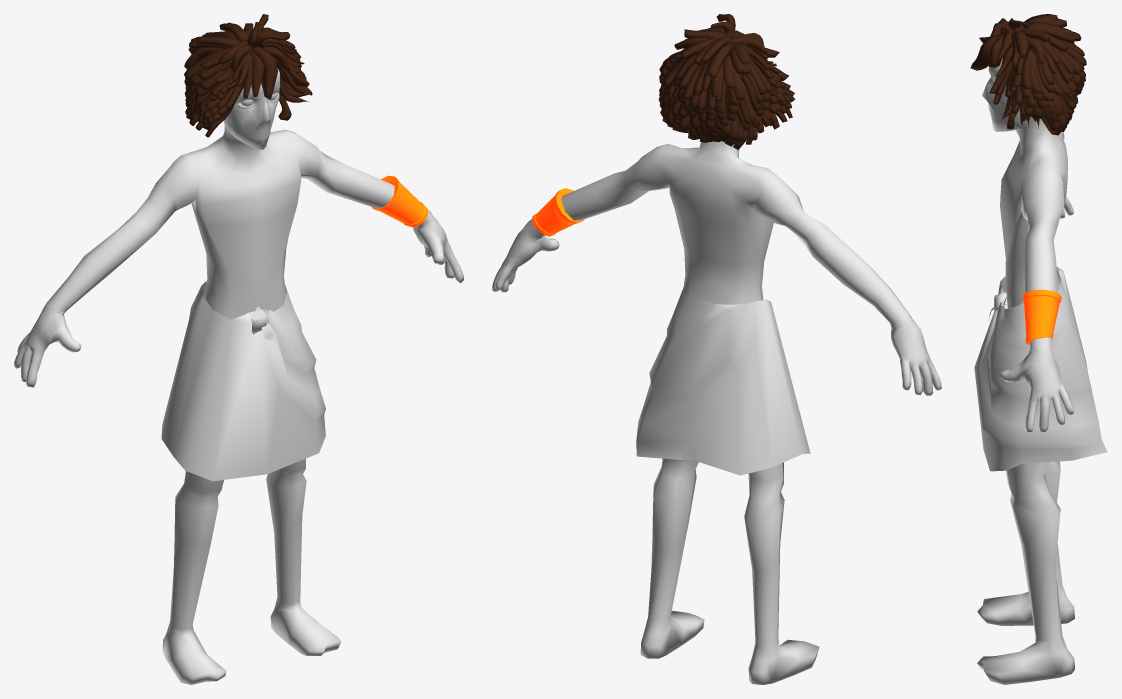
The model's file is Character.fbx.
The picture shows the model from 3 angles, left to right: view 1: azimuth 30°, elevation 25°; view 2: azimuth 150°, elevation 25°; view 3: azimuth 270°, elevation 25°; orthographic projection.
Parts seen in each view (by area): view 1: Body, Skirt, Hair, Bracelet; view 2: Body, Skirt, Hair, Bracelet; view 3: Body, Skirt, Hair, Bracelet.
Boxes of the visible parts, x1=… form: Body: x1=14, y1=68, x2=463, y2=684; Skirt: x1=161, y1=281, x2=325, y2=481; Hair: x1=184, y1=14, x2=312, y2=137; Bracelet: x1=372, y1=175, x2=427, y2=227; Body: x1=492, y1=141, x2=941, y2=684; Skirt: x1=636, y1=287, x2=810, y2=475; Hair: x1=658, y1=14, x2=795, y2=149; Bracelet: x1=532, y1=188, x2=584, y2=236; Body: x1=977, y1=58, x2=1074, y2=684; Skirt: x1=974, y1=266, x2=1107, y2=471; Hair: x1=970, y1=14, x2=1086, y2=135; Bracelet: x1=1023, y1=289, x2=1061, y2=344.
Size of the model in its own units: 1.35 by 1.87 by 0.3691.
